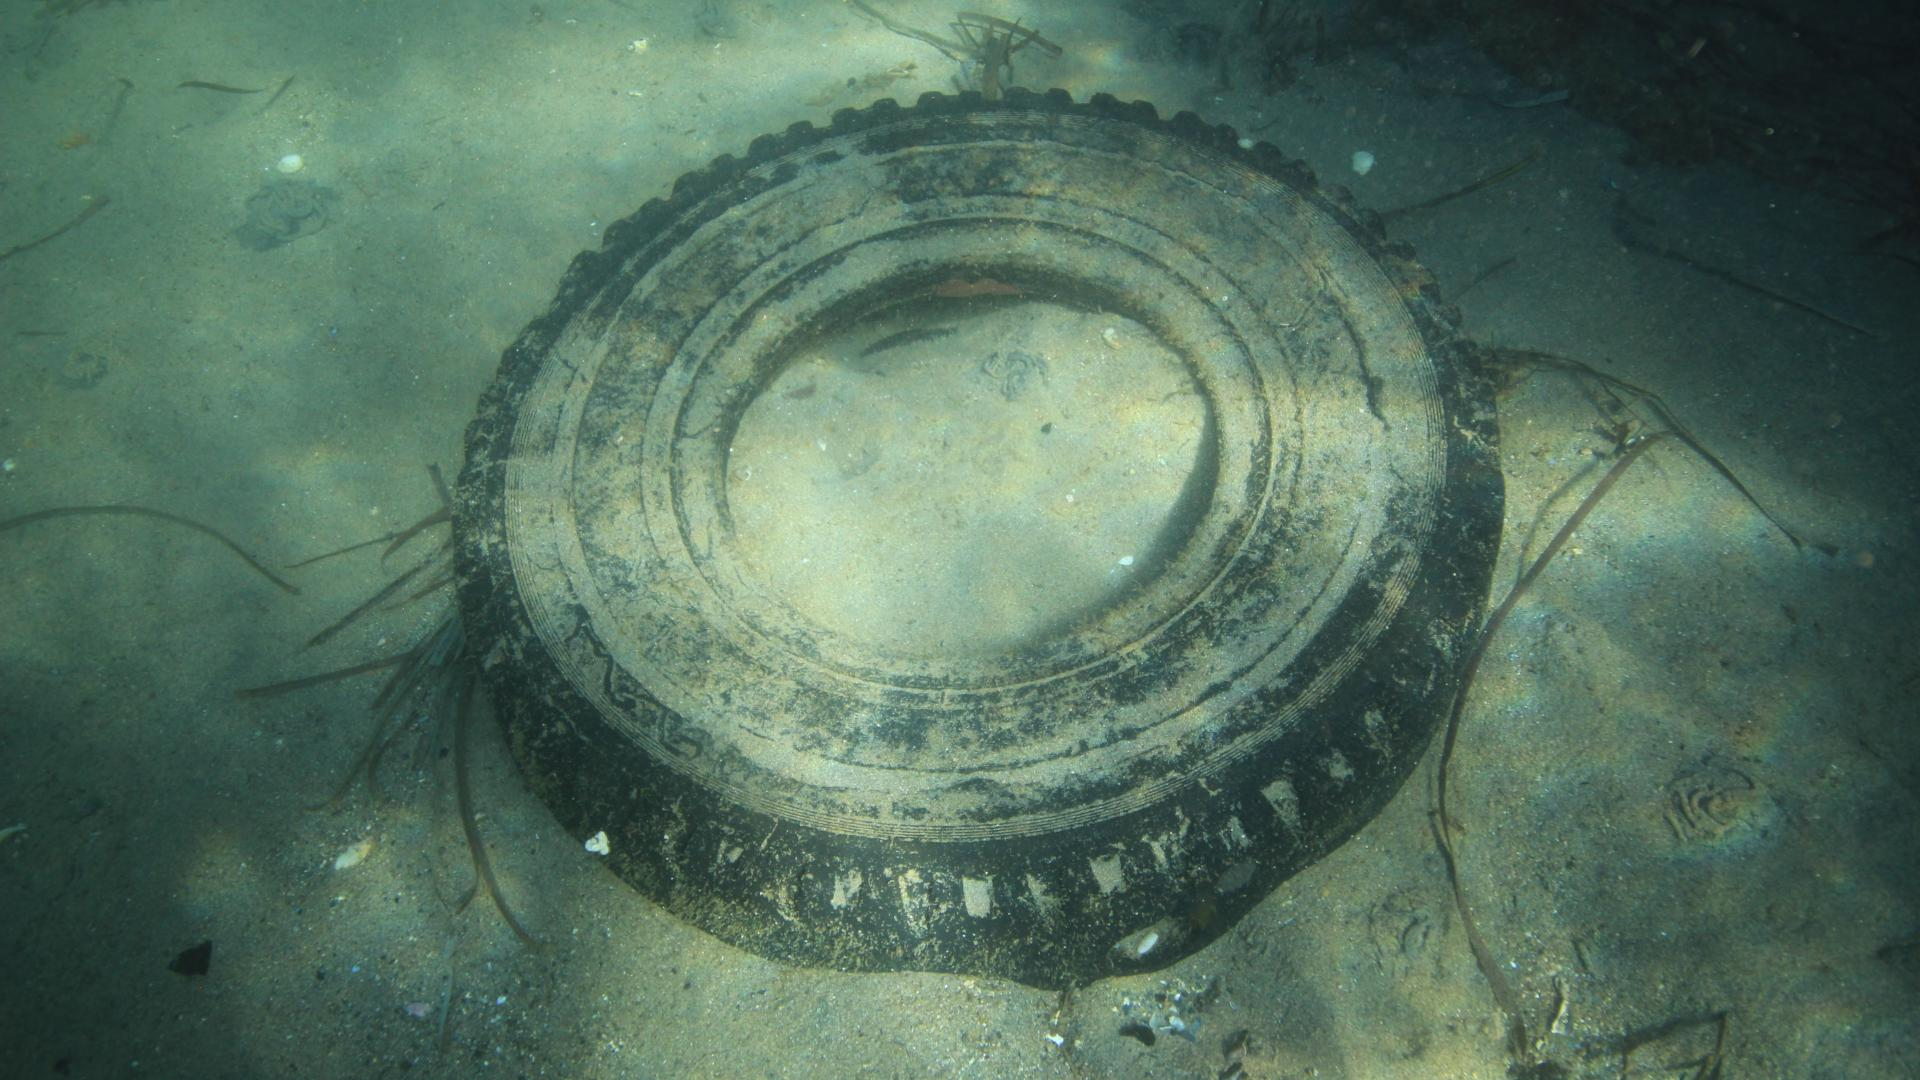tire: (447, 84, 1502, 984)
